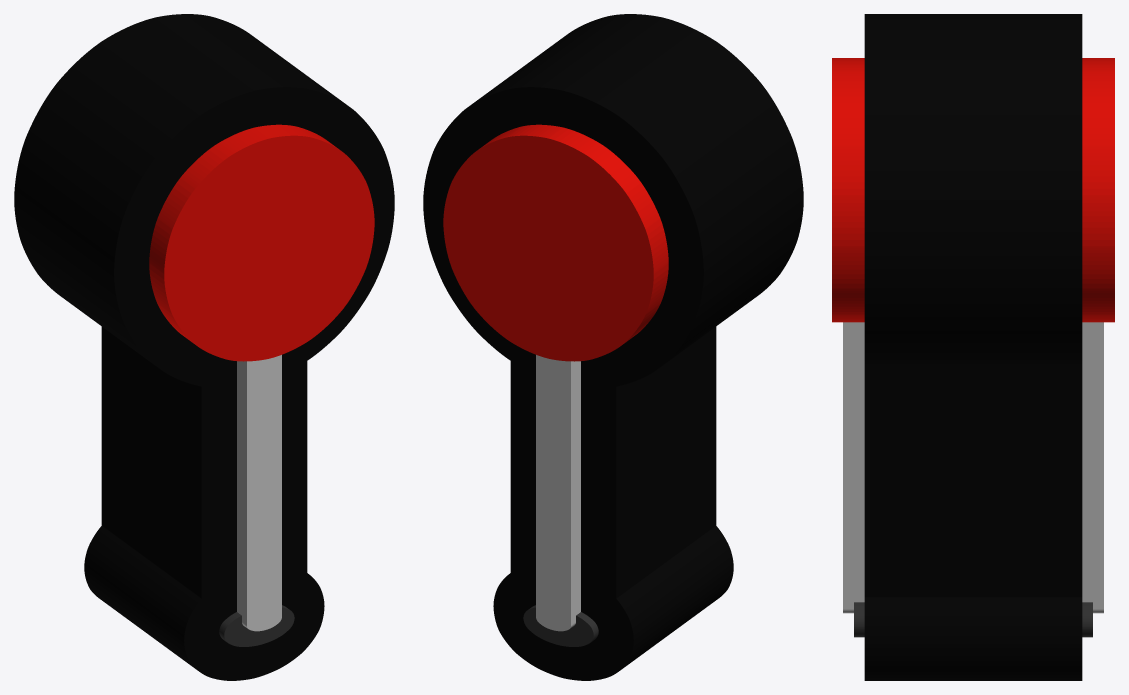
The picture shows the model from 3 angles, left to right: view 1: azimuth 30°, elevation 25°; view 2: azimuth 150°, elevation 25°; view 3: azimuth 270°, elevation 25°; orthographic projection. The views are drawn at different scales.
Visible parts, largest first — view 1: U+1F4CD_layer00_obj00, U+1F4CD_layer03_obj00, U+1F4CD_layer02_obj00, U+1F4CD_layer01_obj00; view 2: U+1F4CD_layer00_obj00, U+1F4CD_layer03_obj00, U+1F4CD_layer02_obj00, U+1F4CD_layer01_obj00; view 3: U+1F4CD_layer00_obj00, U+1F4CD_layer03_obj00, U+1F4CD_layer02_obj00, U+1F4CD_layer01_obj00.
Part boxes in pixels (<box>): U+1F4CD_layer00_obj00: <box>14,14,394,680</box>; U+1F4CD_layer03_obj00: <box>149,124,374,361</box>; U+1F4CD_layer02_obj00: <box>237,355,281,631</box>; U+1F4CD_layer01_obj00: <box>219,605,294,646</box>; U+1F4CD_layer00_obj00: <box>423,14,803,680</box>; U+1F4CD_layer03_obj00: <box>443,124,668,361</box>; U+1F4CD_layer02_obj00: <box>536,355,580,631</box>; U+1F4CD_layer01_obj00: <box>523,605,598,646</box>; U+1F4CD_layer00_obj00: <box>864,14,1082,680</box>; U+1F4CD_layer03_obj00: <box>832,58,1114,322</box>; U+1F4CD_layer02_obj00: <box>843,322,1103,613</box>; U+1F4CD_layer01_obj00: <box>854,602,1092,637</box>.
Size of the model in its own units: 0.3246 by 0.649 by 0.26.
